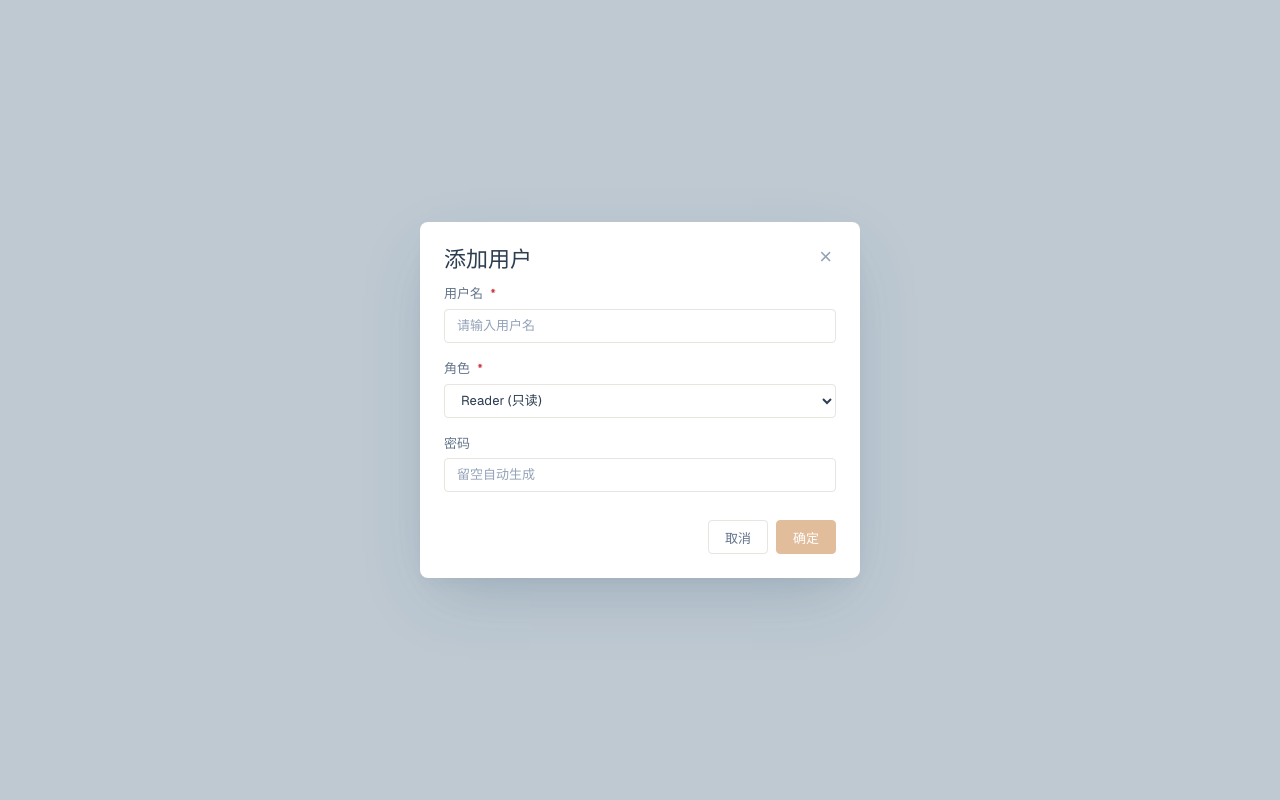
CreateUserDialog › enables submit button when username is filled
The width and height of the screenshot is (1280, 800).
Step 1. Type "testuser" into the field with placeholder "请输入用户名" → (640, 326), box [444, 309, 836, 343]
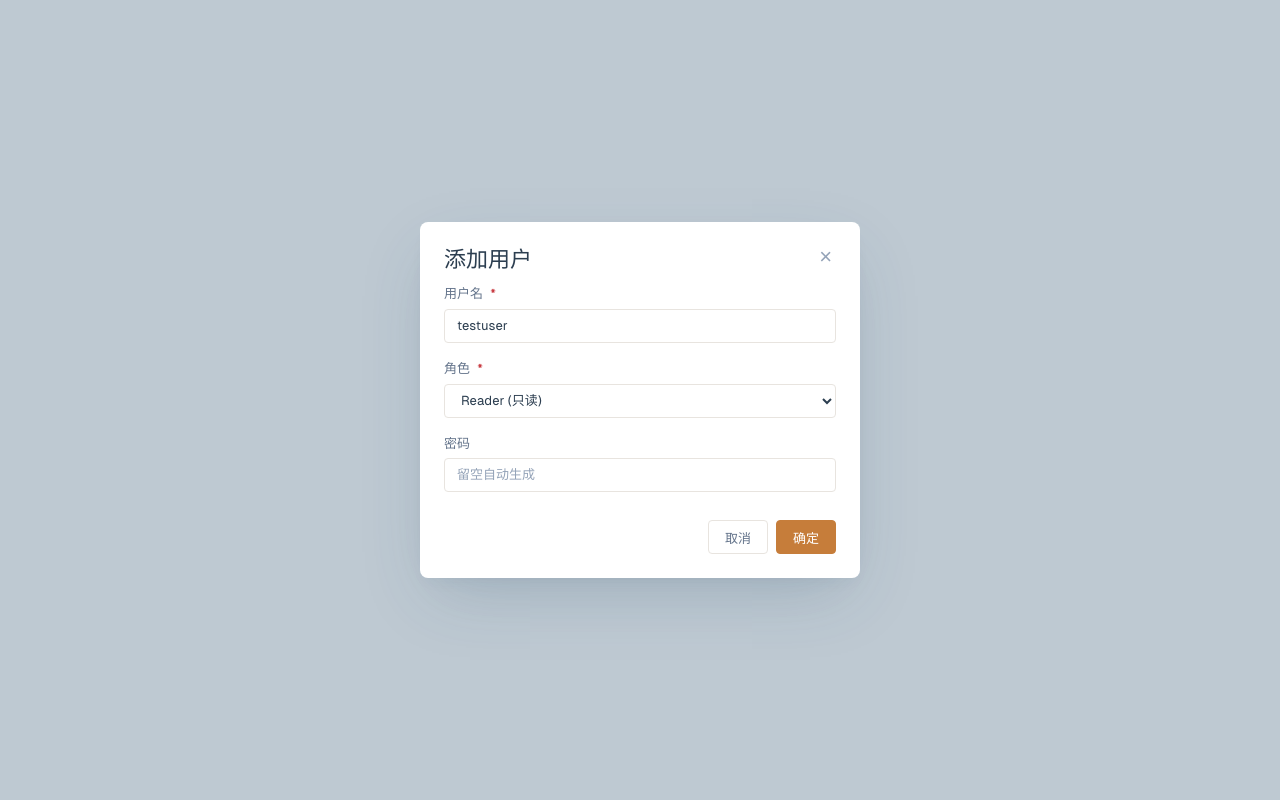
Expected: the button "确定" is enabled, [776, 520, 836, 554]
